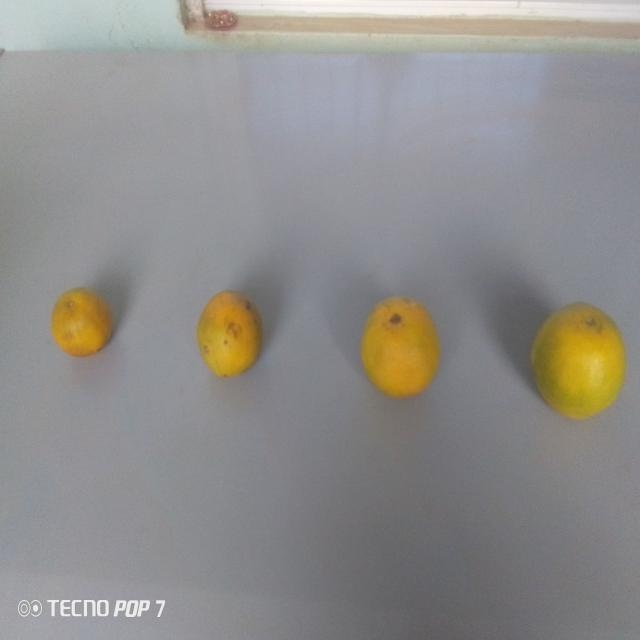agrume: (530, 293, 625, 427), (354, 290, 447, 408), (189, 285, 265, 386), (52, 280, 112, 363)
